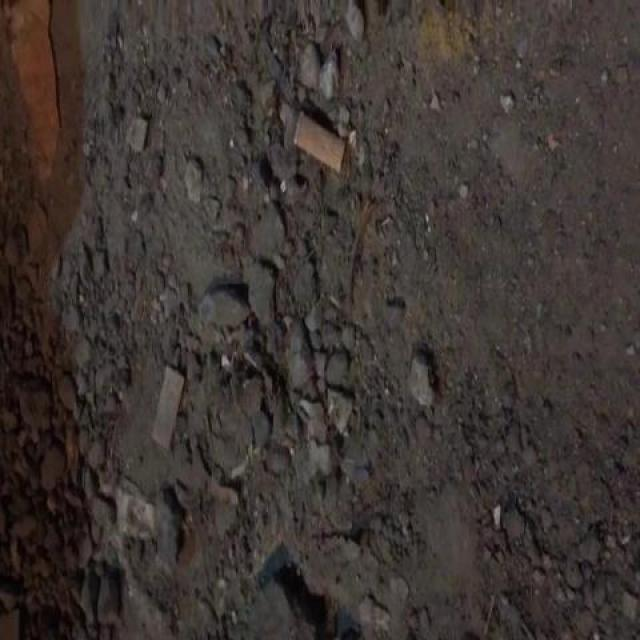non-organic waste: (292, 109, 348, 176)
